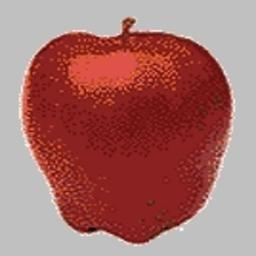apple: (18, 26, 233, 243)
